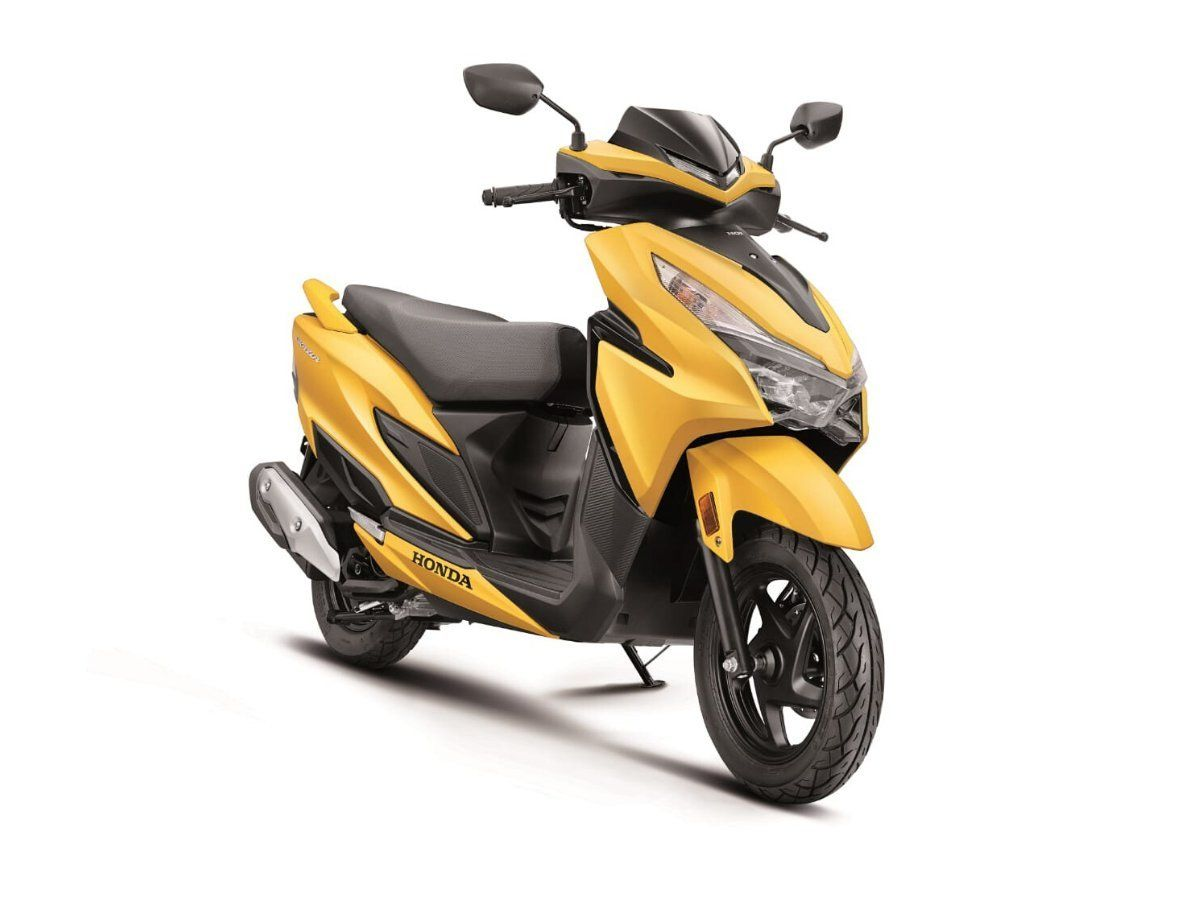bike: (265, 60, 886, 814)
